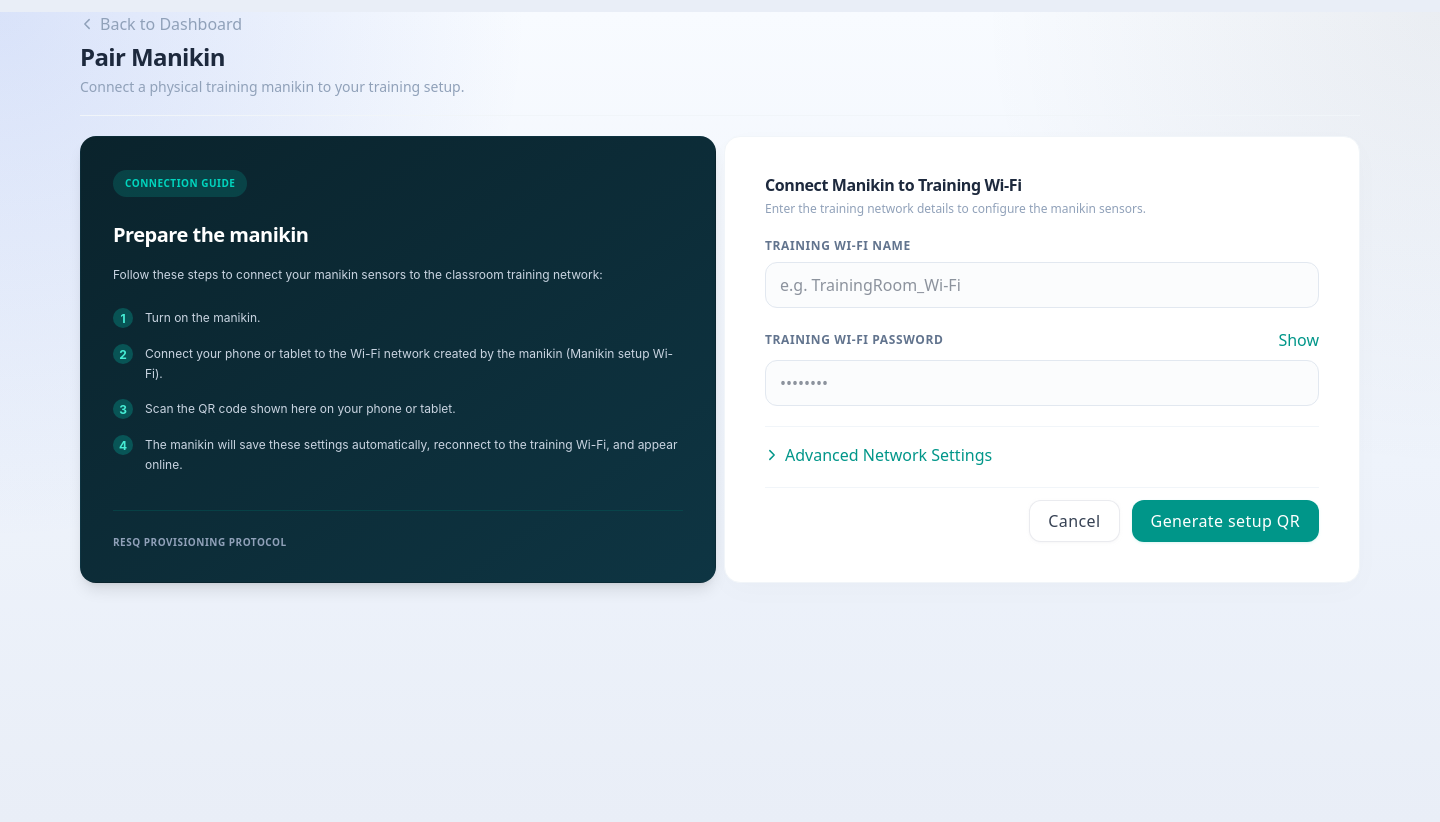
live session and manikin pairing pages › validates required pairing fields before generating a QR
In the field labelled "Training Wi-Fi name": (1042, 285) [765, 262, 1319, 308], type "LabNet"
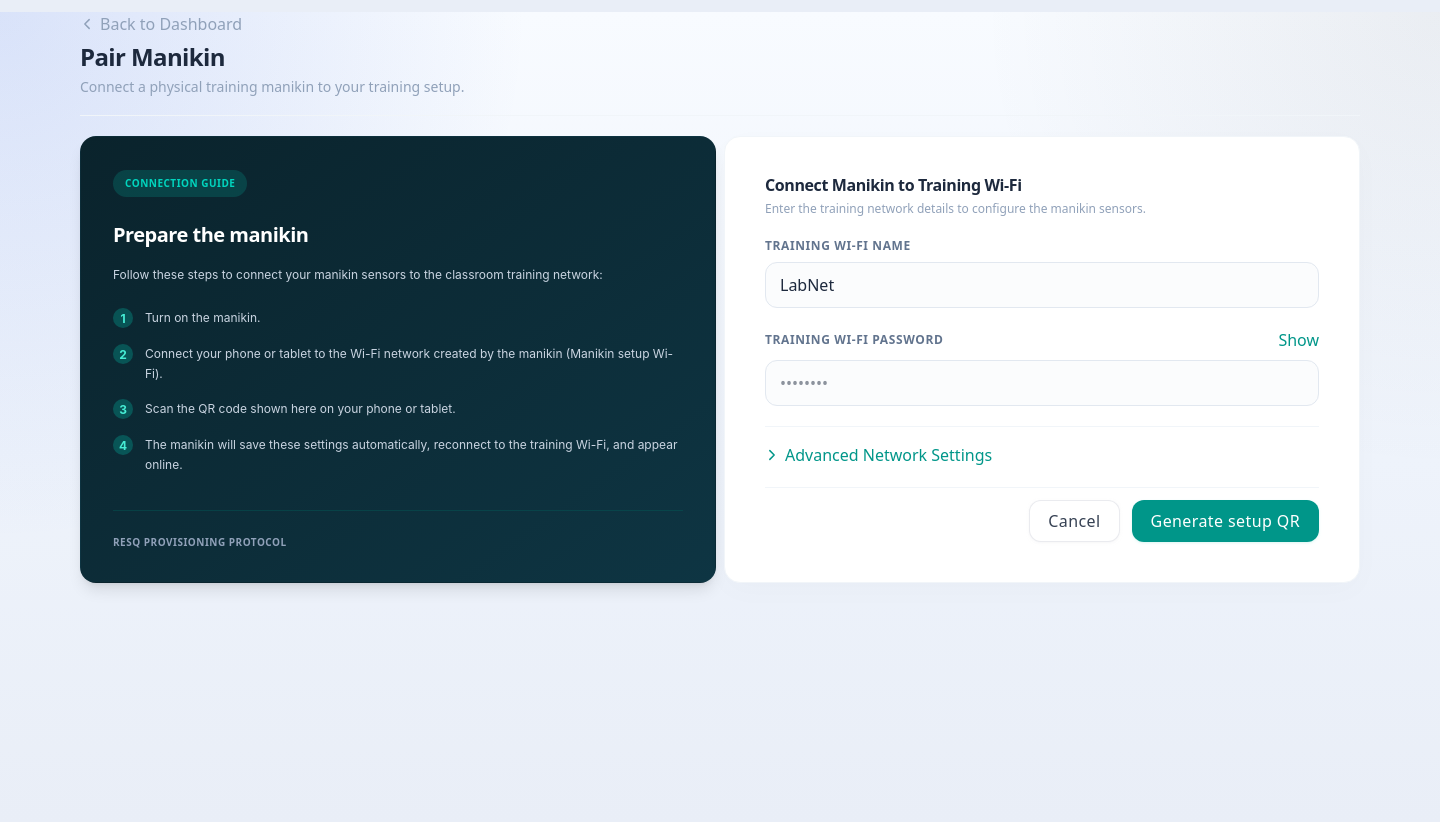
In the password field labelled "Training Wi-Fi password": (1042, 383) [765, 360, 1319, 406], type "train-pass"
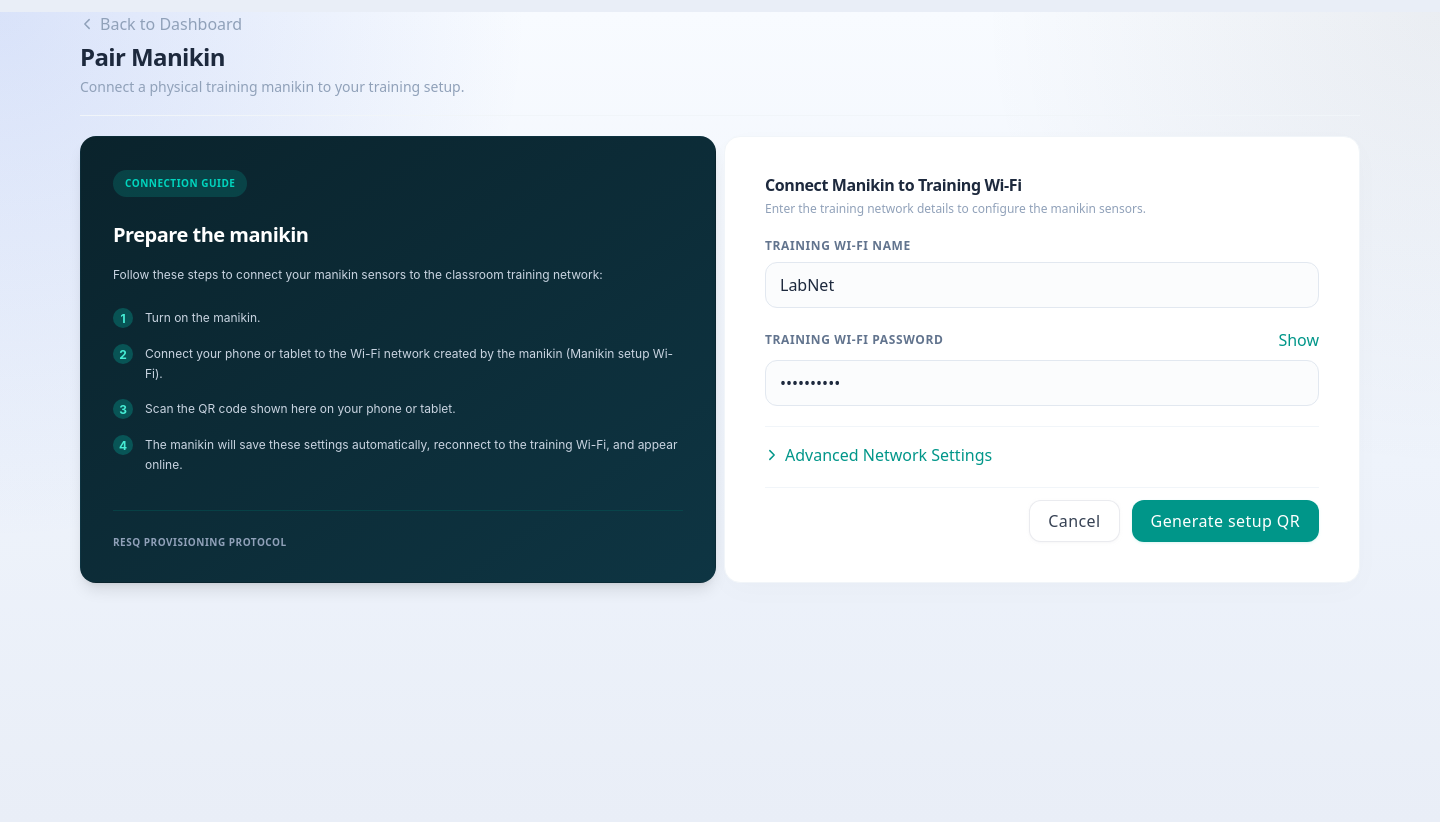
Click the button "Generate setup QR": (1225, 521) [1132, 500, 1319, 542]
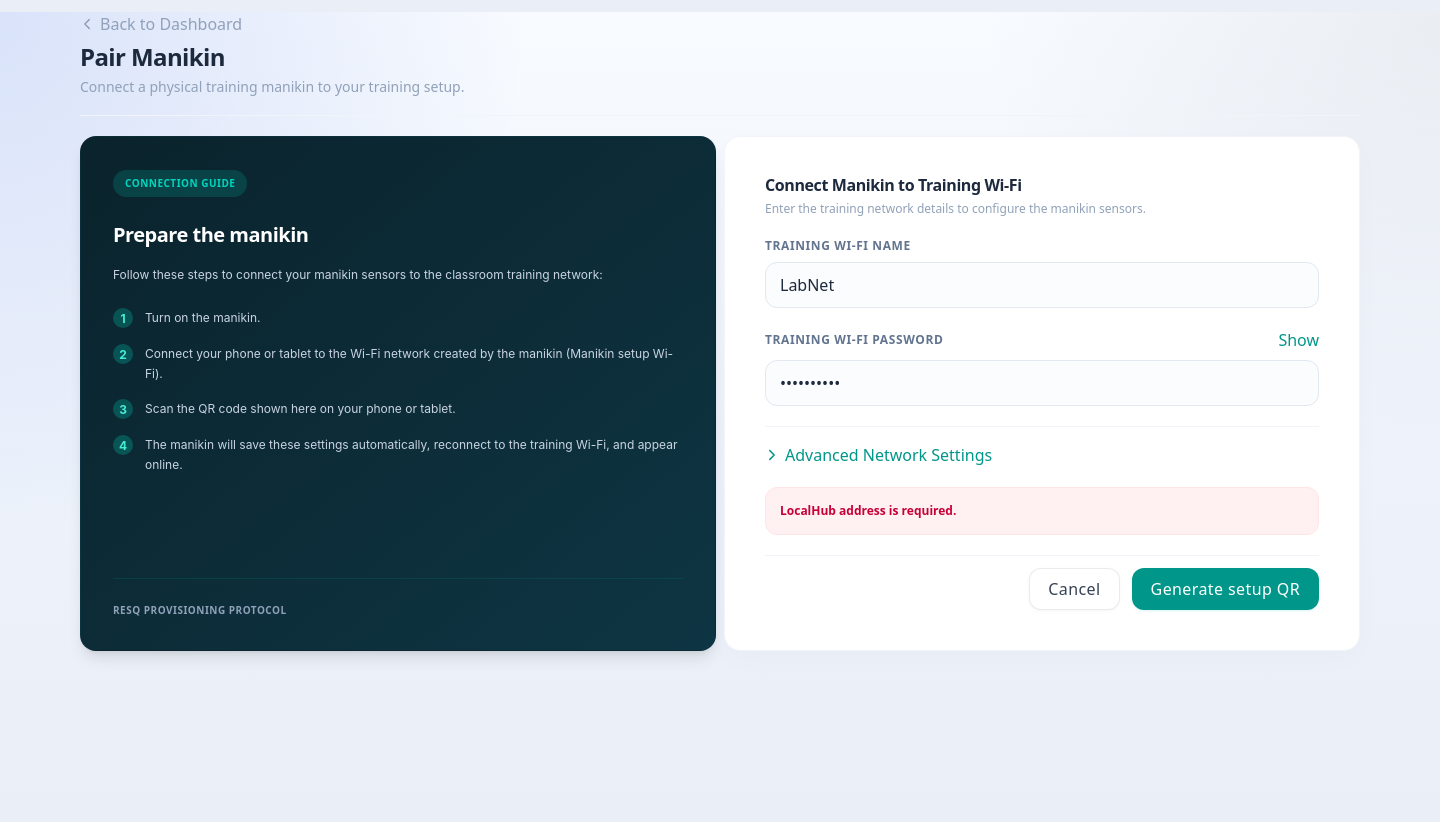
Now the text "LocalHub address is required." is shown, box [765, 487, 1319, 535]
Click the button "Advanced Network Settings": (879, 455) [765, 443, 992, 467]
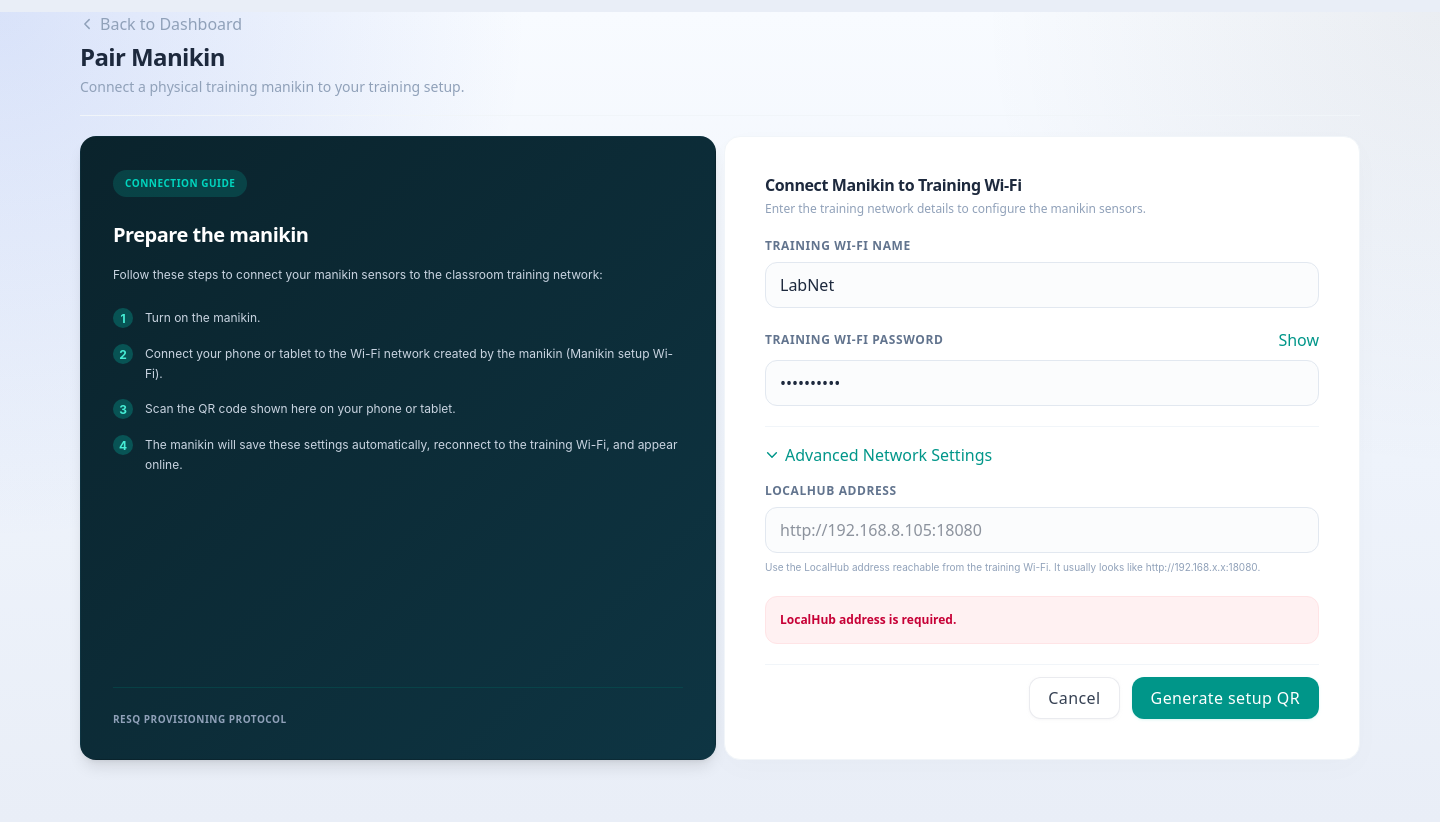
In the field labelled "LocalHub address": (1042, 530) [765, 507, 1319, 553], type "192.168.8.5:18080"
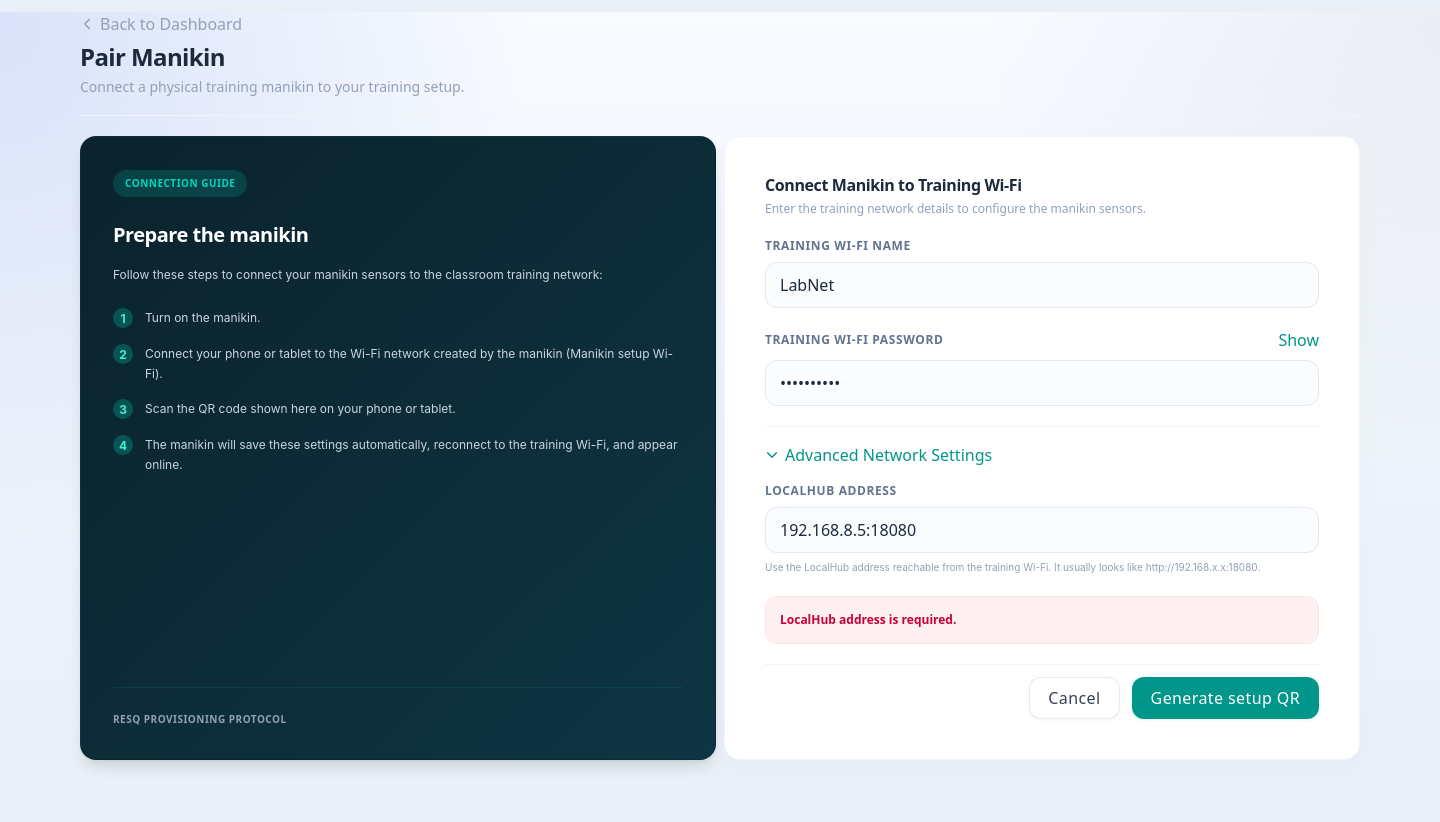
Click the button "Generate setup QR": (1225, 698) [1132, 676, 1319, 718]
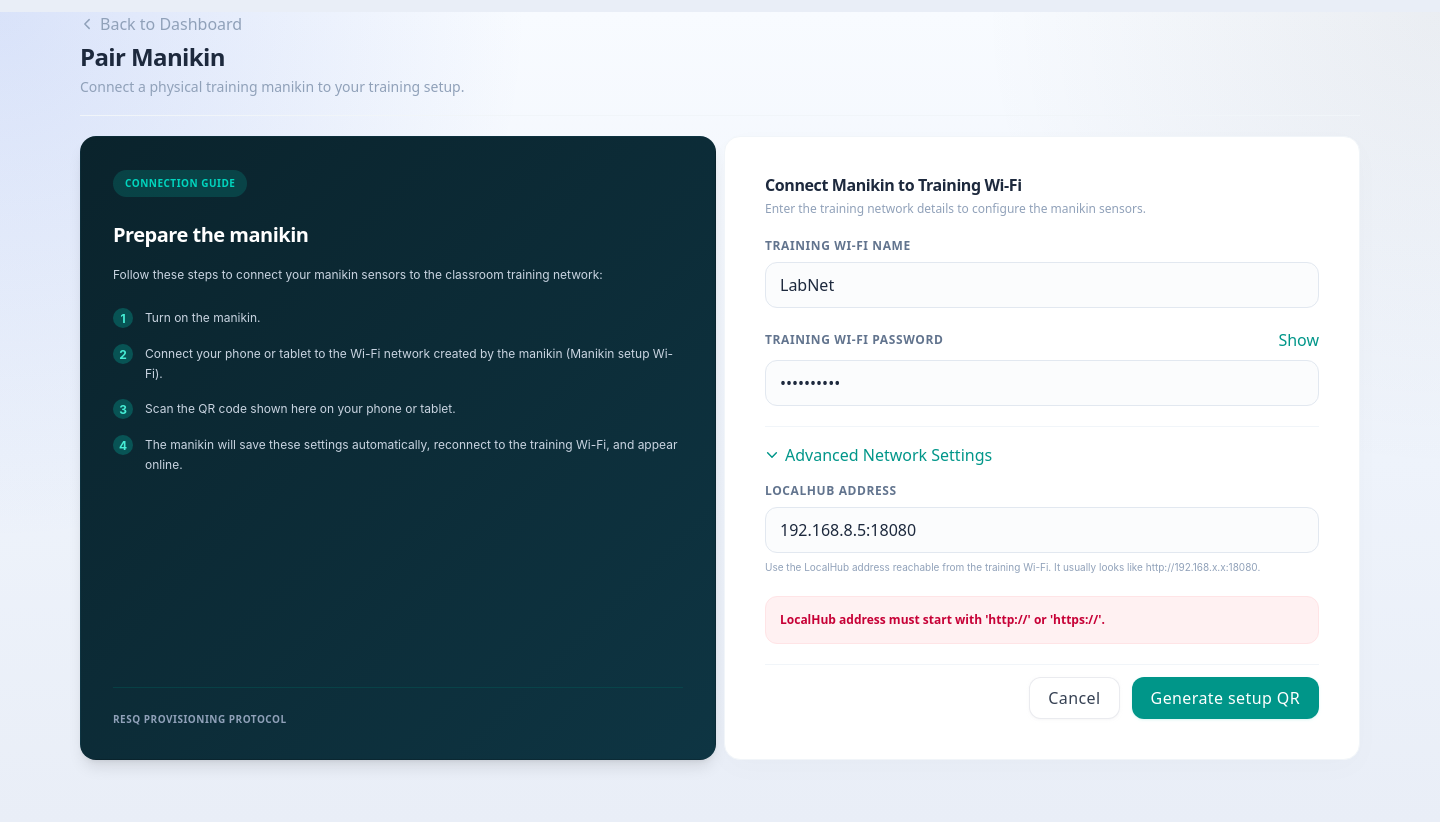
Now the text "LocalHub address must start with 'http://' or 'https://'." is shown, box [765, 596, 1319, 644]
